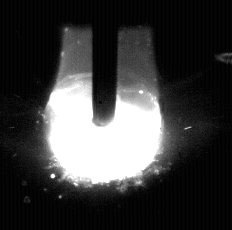arame: (93, 0, 117, 127)
poca: (46, 0, 164, 230)
